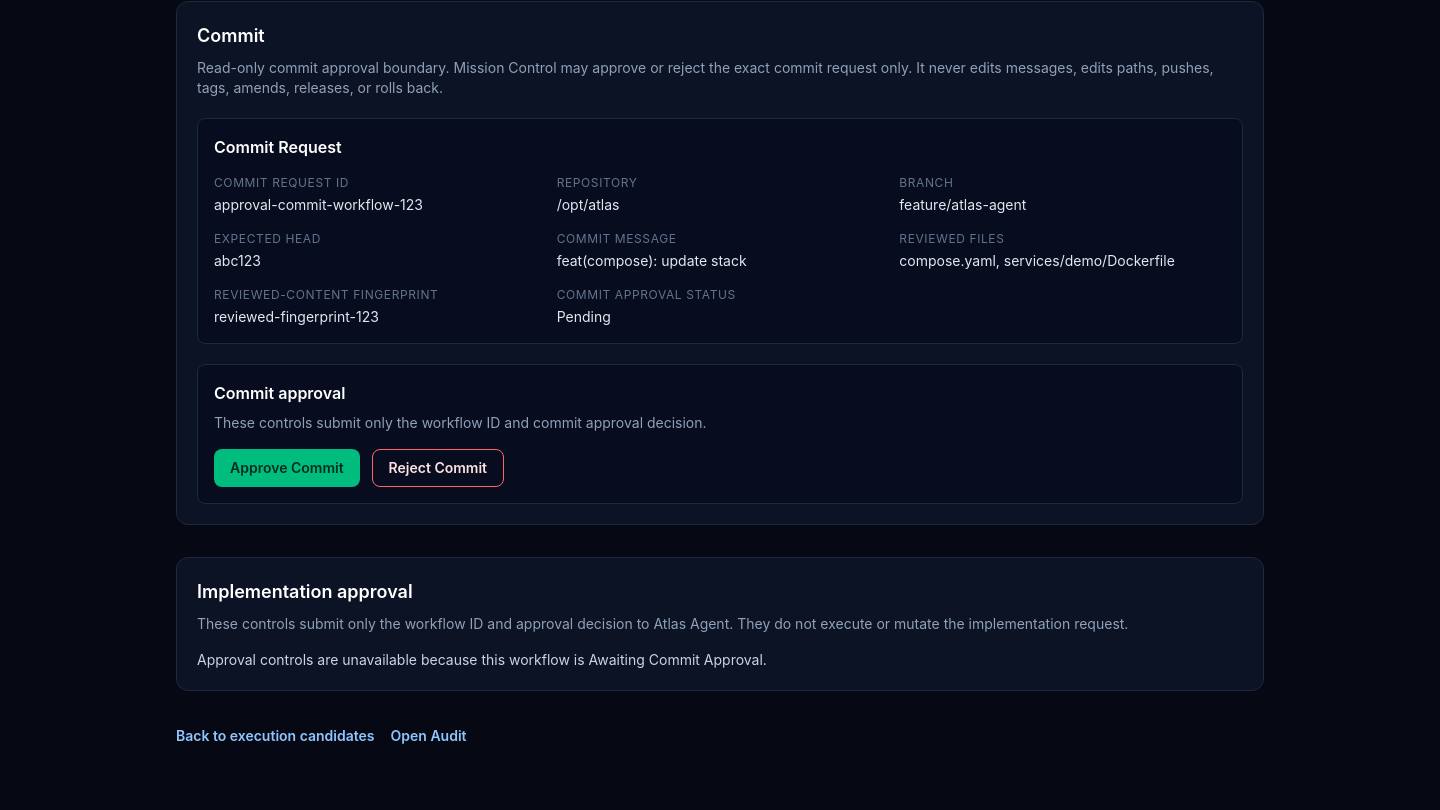
Test: WorkflowPage › submits commit approval with only workflow id and decision
(page scrolled)
Click the button "Approve Commit" at (287, 468), box [214,449,360,487]
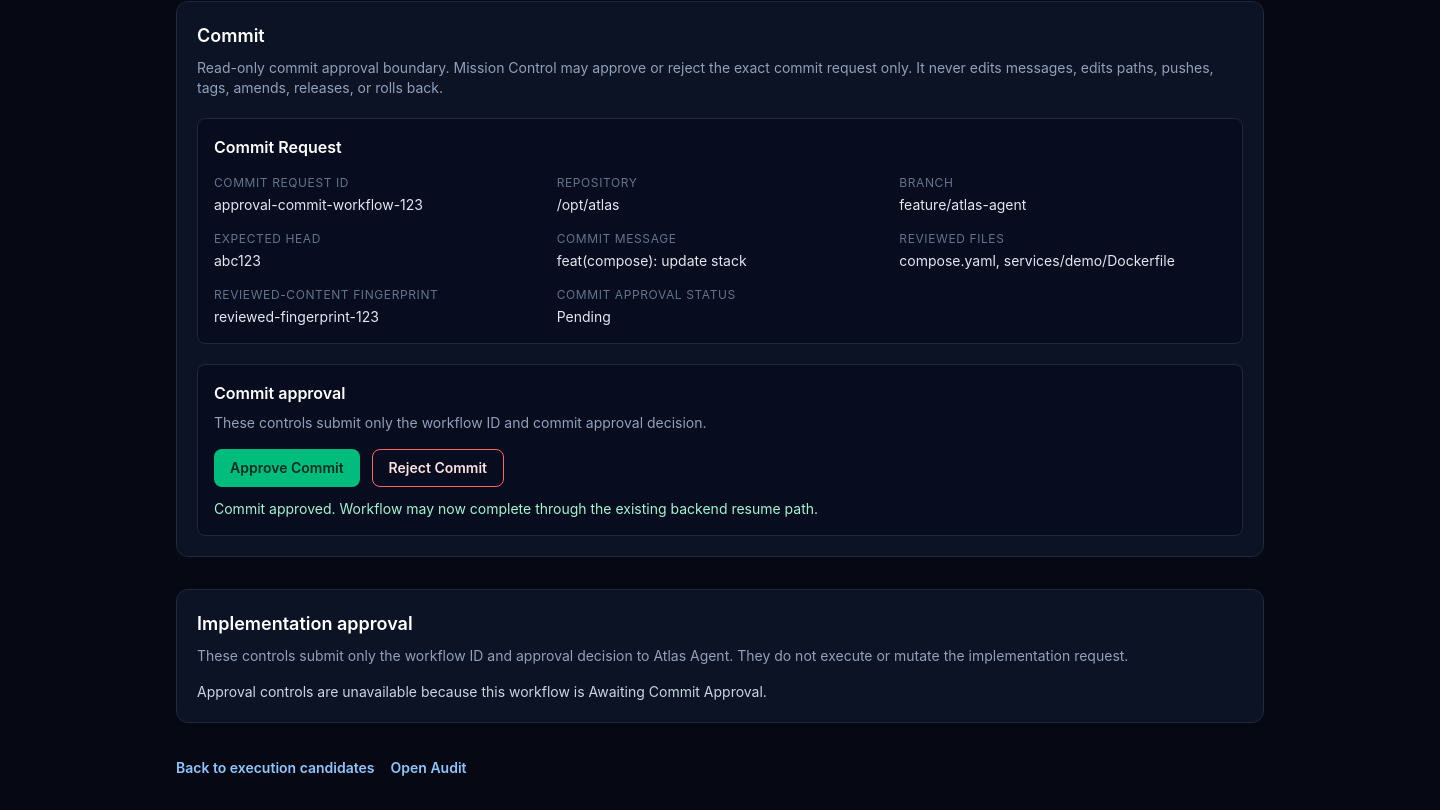
expect the text "Commit approved. Workflow may now complete through the existing backend resume path." is shown: met, box [214,500,818,517]
